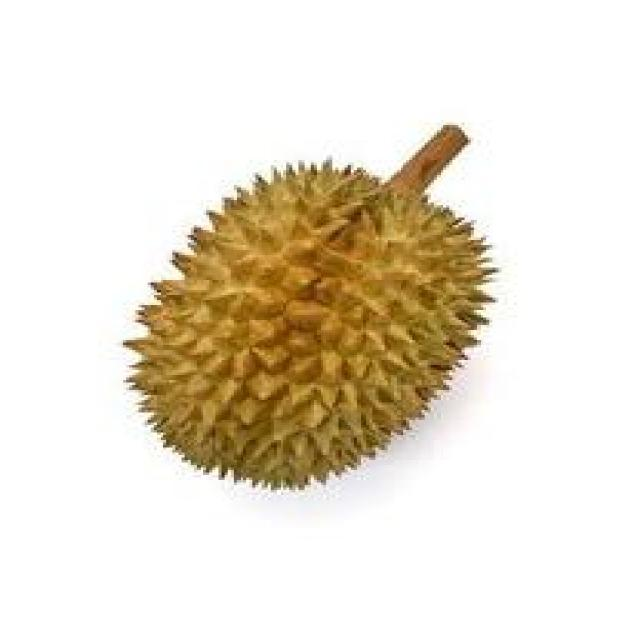Fruit: (209, 258, 514, 490)
